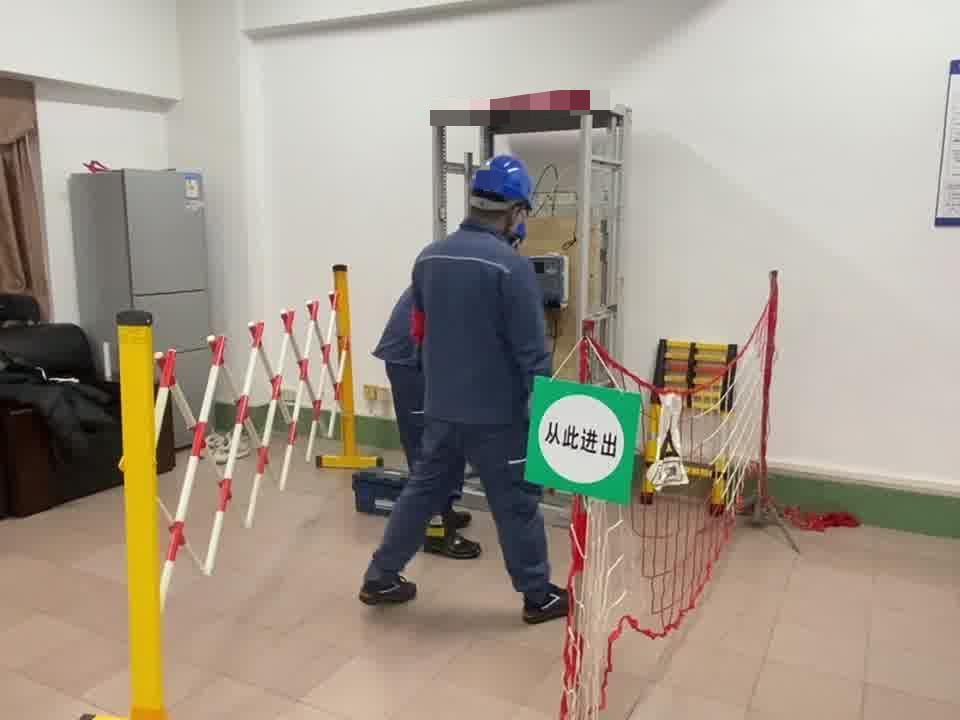halt: (470, 155, 541, 236)
